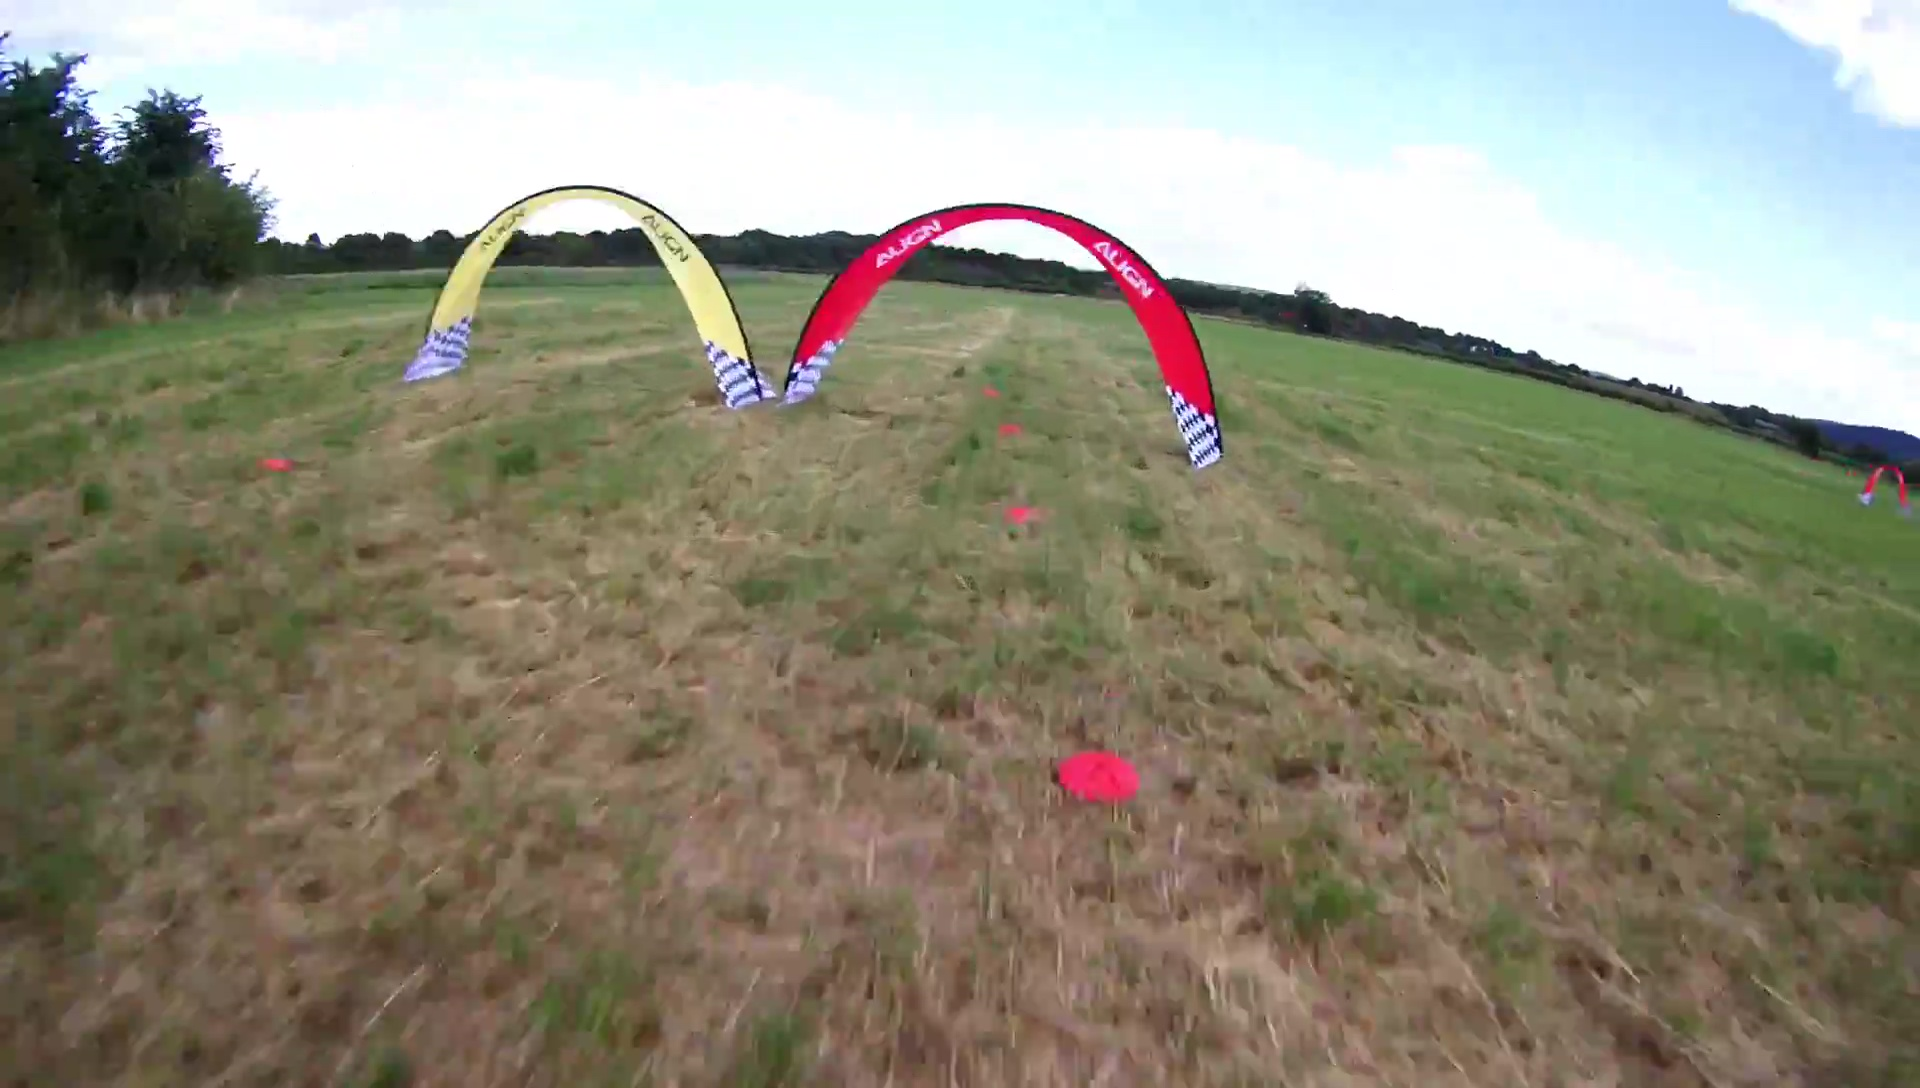gate: (779, 200, 1228, 473), (400, 183, 775, 411), (1853, 463, 1909, 510)
